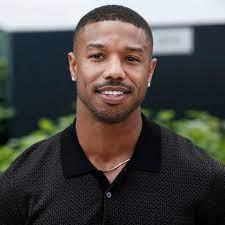s.black: (76, 65, 104, 93)
